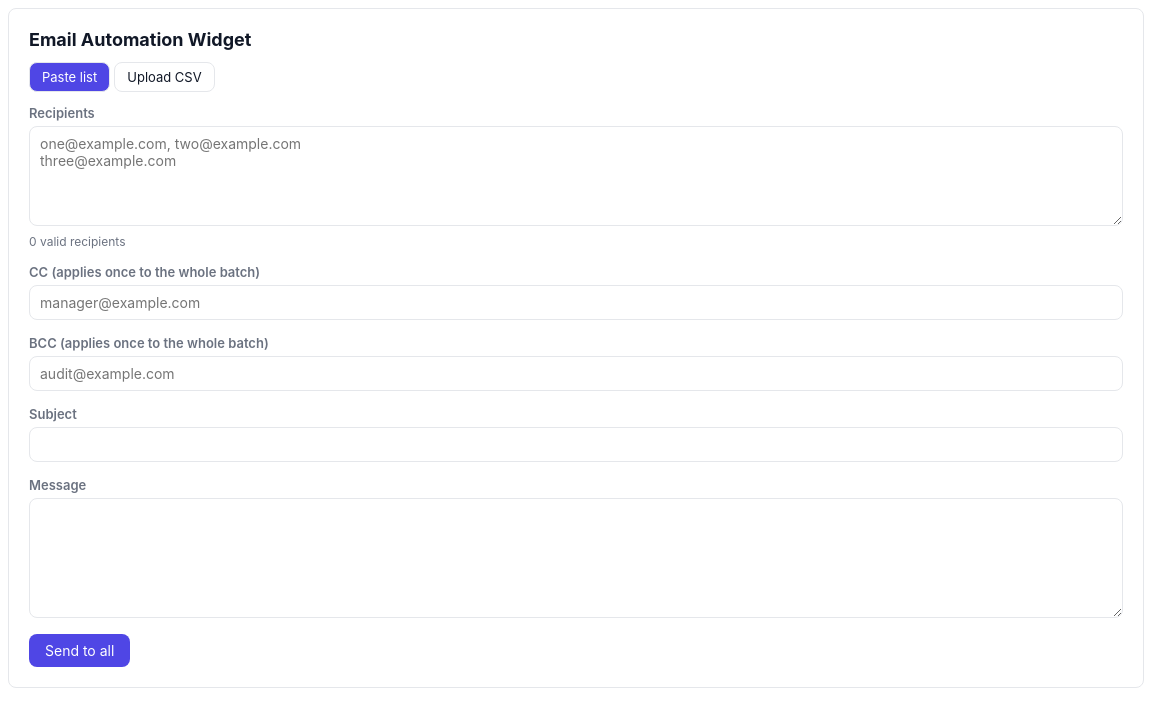
EmailAutomationWidget (bulk mode) › shows a server error and does not reset the form when the request fails
Step 1. Type "a@x.com" into the text box labelled "Recipients" → (576, 176), box [29,126,1123,226]
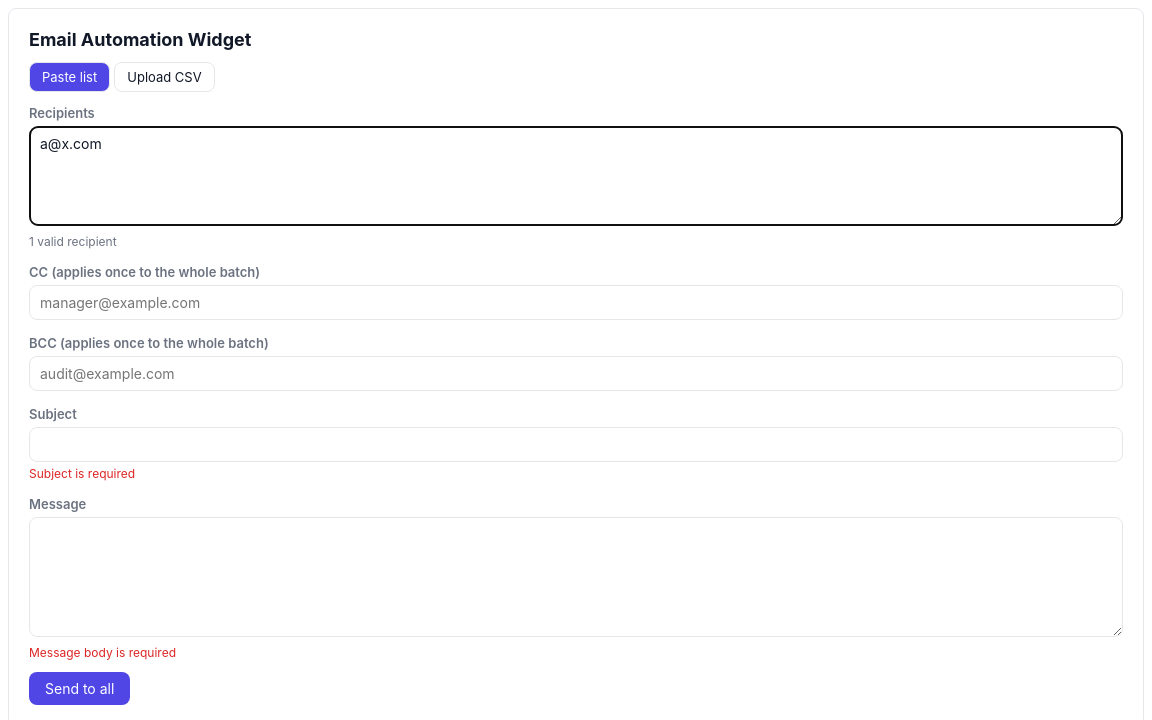
Step 2. Type "Hello" into the field labelled "Subject" → (576, 444), box [29,427,1123,462]
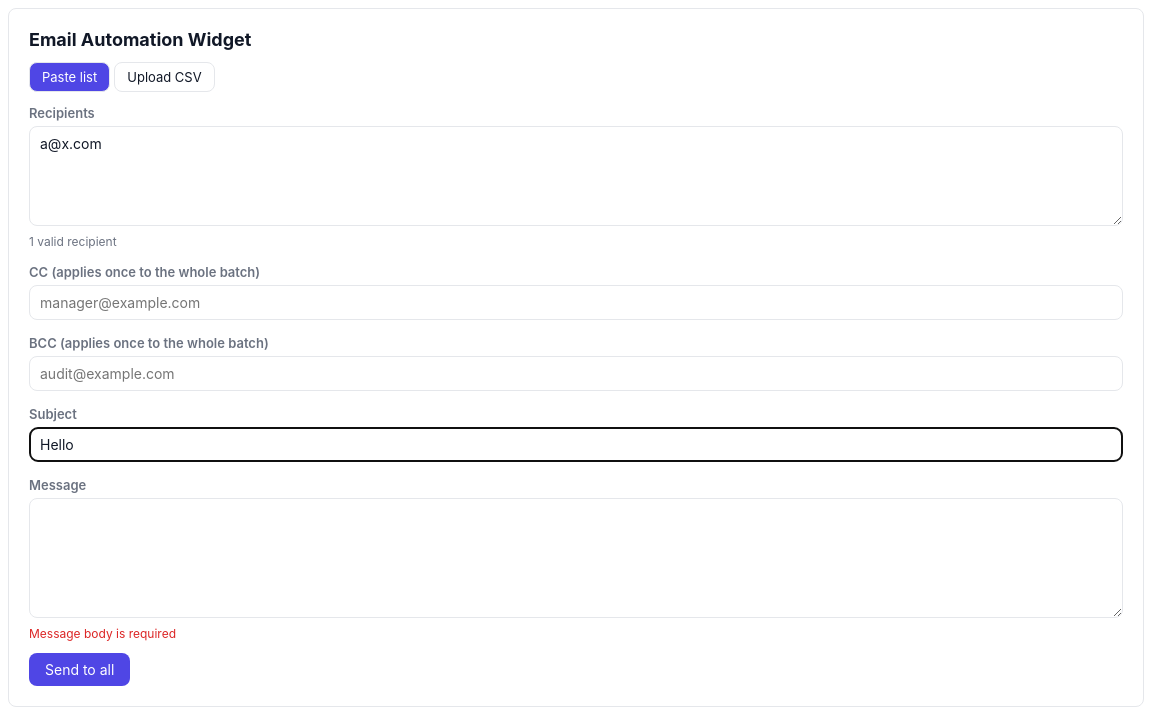
Step 3. Type "Test message" into the text box labelled "Message" → (576, 558), box [29,498,1123,618]
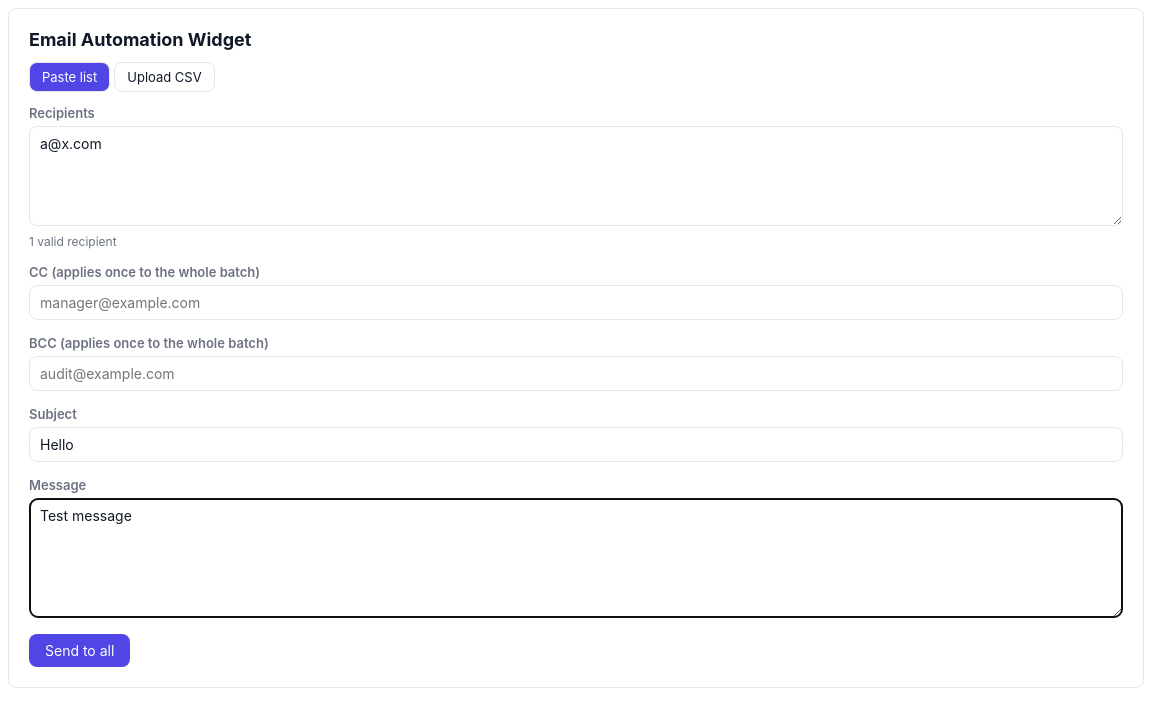
Step 4. Click the button "Send to all" → click(80, 650), box [29,634,130,667]
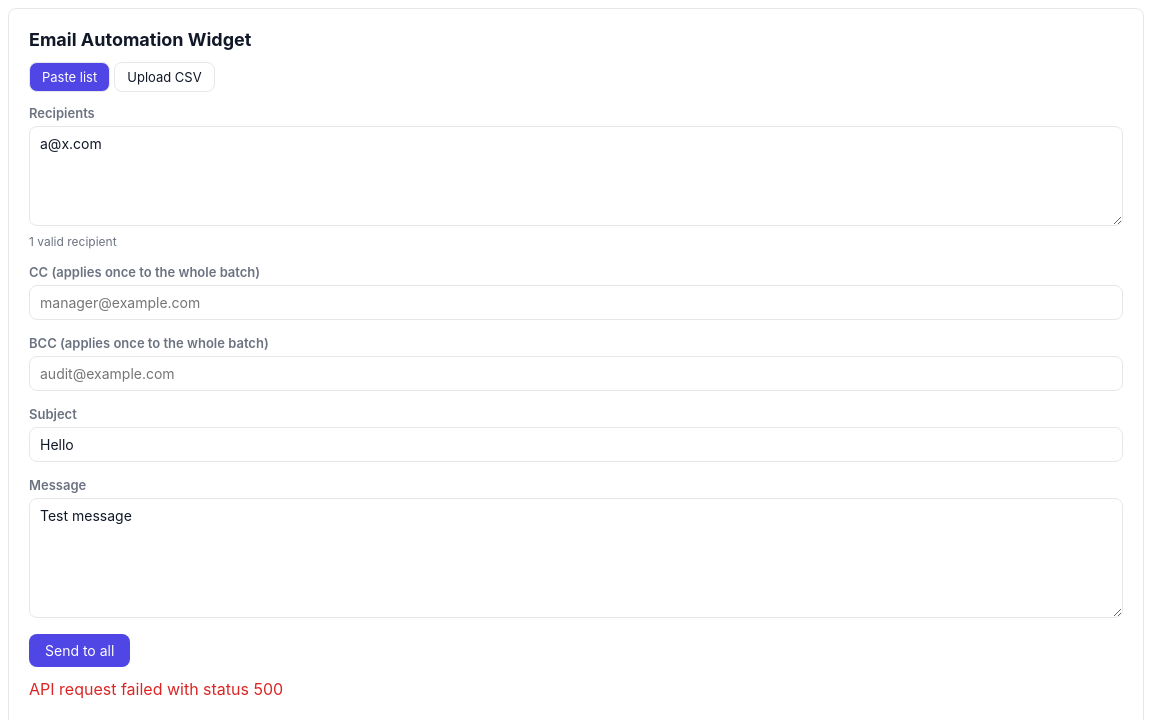
Expected: the text "API request failed with status 500" is shown, [29,679,283,699]
